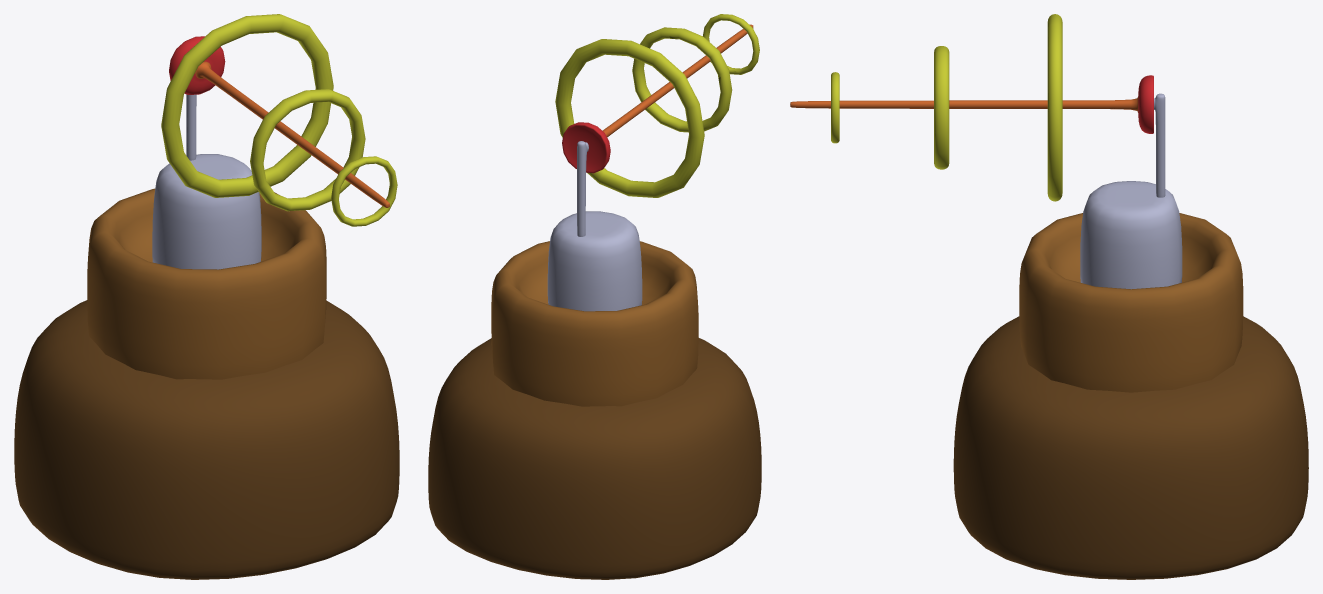
The model's file is test_tower.glb.
3 renders of one model, left to right at view 1: azimuth 30°, elevation 25°; view 2: azimuth 150°, elevation 25°; view 3: azimuth 270°, elevation 25°, orthographic. The views are drawn at different scales.
Parts seen in each view (by area): view 1: Base, Laser; view 2: Base, Laser; view 3: Base, Laser.
Boxes of the visible parts, x1,y1,x2,y2 form: Base: (14,300,399,579); Laser: (87,14,397,379); Base: (428,338,761,579); Laser: (491,14,759,406); Base: (953,316,1308,579); Laser: (790,14,1243,392).
Size of the model in its own units: 0.9131 by 1.39 by 1.33.
1 material, 1 textured.
